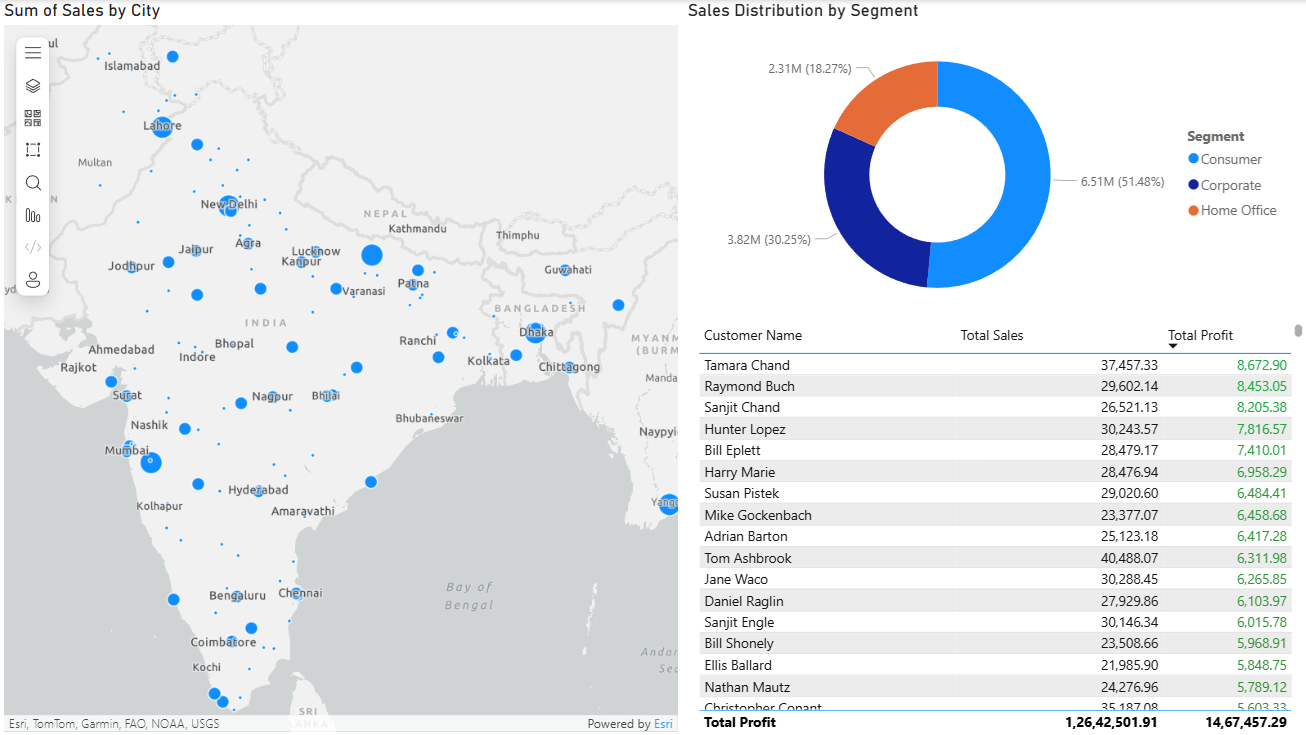

The dashboard page shown, as its layout file describes it:
{"tool":"powerbi","page":{"name":"Customer_Insights","canvas":[1280,720],"ordinal":2},"visuals":[{"type":"donutChart","title":"Sales Distribution by Segment","fields":{"Category":["Orders.Segment"],"Y":["Orders.Total Sales"]},"box":[668.9,0,595.5,322.8],"z":0},{"type":"tableEx","fields":{"Values":["Orders.Customer Name","Orders.Total Sales","Date_Table.Total Profit"]},"box":[678.7,311.8,601.6,408.4],"z":1000},{"type":"esriVisual","fields":{"Location":["Orders.City"],"Size":["Sum(Orders.Sales)"]},"box":[0,0,669.1,720.4],"z":2000}]}

Visuals, with their boxes on the page's 1280x720 design canvas (x1, y1, x2, y2). These are canvas units, not pixel positions in the 1306x735 screenshot, which may show the page scaled, cropped or inside an application window:
"Sales Distribution by Segment" donutChart: left=669, top=0, right=1264, bottom=323
tableEx - Orders.Customer Name x Orders.Total Sales: left=679, top=312, right=1280, bottom=720
esriVisual - Orders.City x Sum(Orders.Sales): left=0, top=0, right=669, bottom=720
